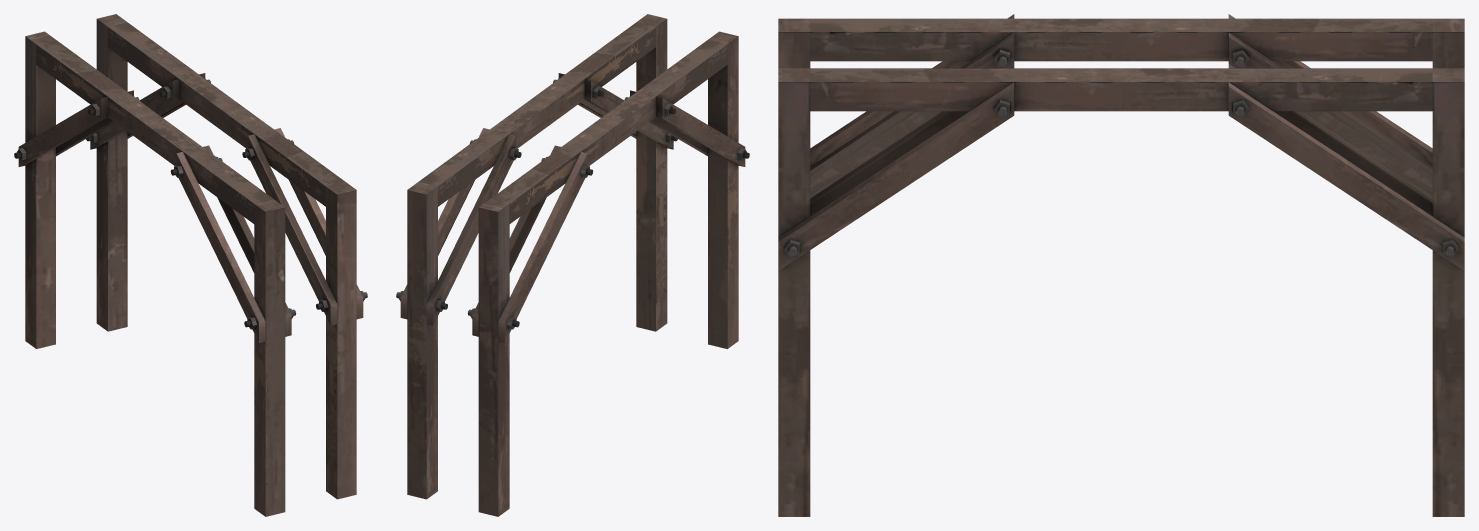
The picture shows the model from 3 angles, left to right: view 1: azimuth 30°, elevation 25°; view 2: azimuth 150°, elevation 25°; view 3: azimuth 270°, elevation 25°; orthographic projection. The views are drawn at different scales.
Parts seen in each view (by area): view 1: body0_model0_lod0_mesh0; view 2: body0_model0_lod0_mesh0; view 3: body0_model0_lod0_mesh0.
Part boxes in pixels (bbox=[...]): body0_model0_lod0_mesh0: bbox=[14, 14, 367, 516]; body0_model0_lod0_mesh0: bbox=[396, 14, 749, 516]; body0_model0_lod0_mesh0: bbox=[778, 14, 1464, 516].
Bounding box in the file's own units: 74.01 × 179 × 256.
1 material, 1 textured.
